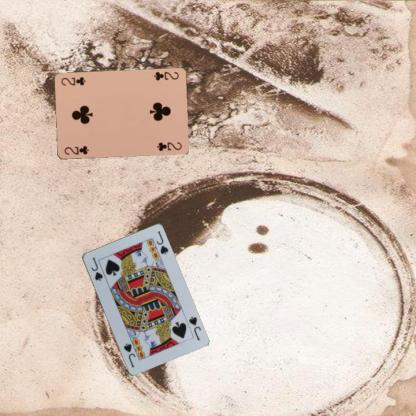2c: (151, 69, 180, 82), (62, 143, 89, 156)
Js: (88, 254, 104, 282), (186, 314, 202, 341)
